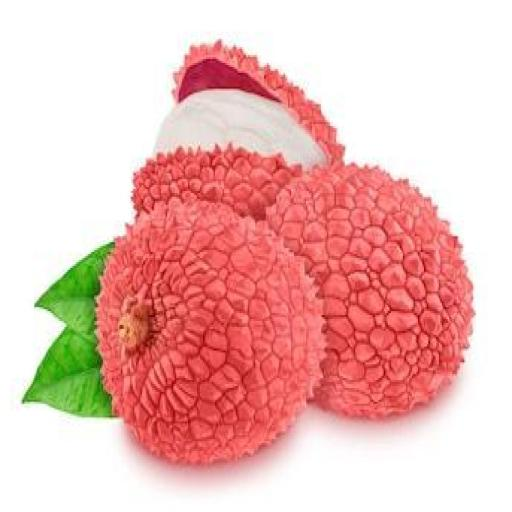lychee: (97, 199, 324, 462), (267, 166, 472, 417), (132, 44, 342, 218), (173, 42, 342, 161), (132, 146, 300, 220)
